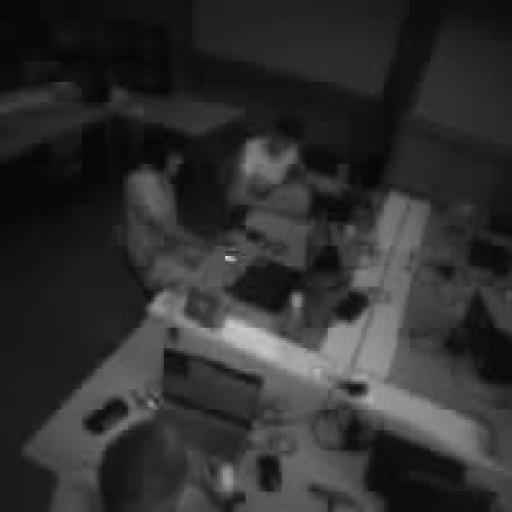human: (52, 415, 232, 511), (123, 131, 204, 291), (228, 116, 309, 217)
